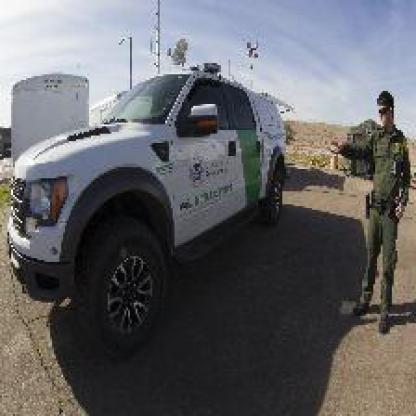emergency: (6, 59, 294, 351)
